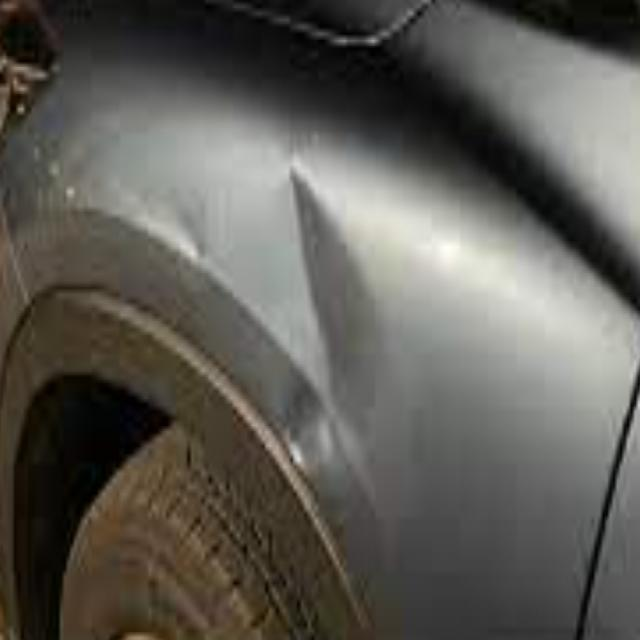dents: (275, 147, 382, 506), (164, 188, 226, 288)
